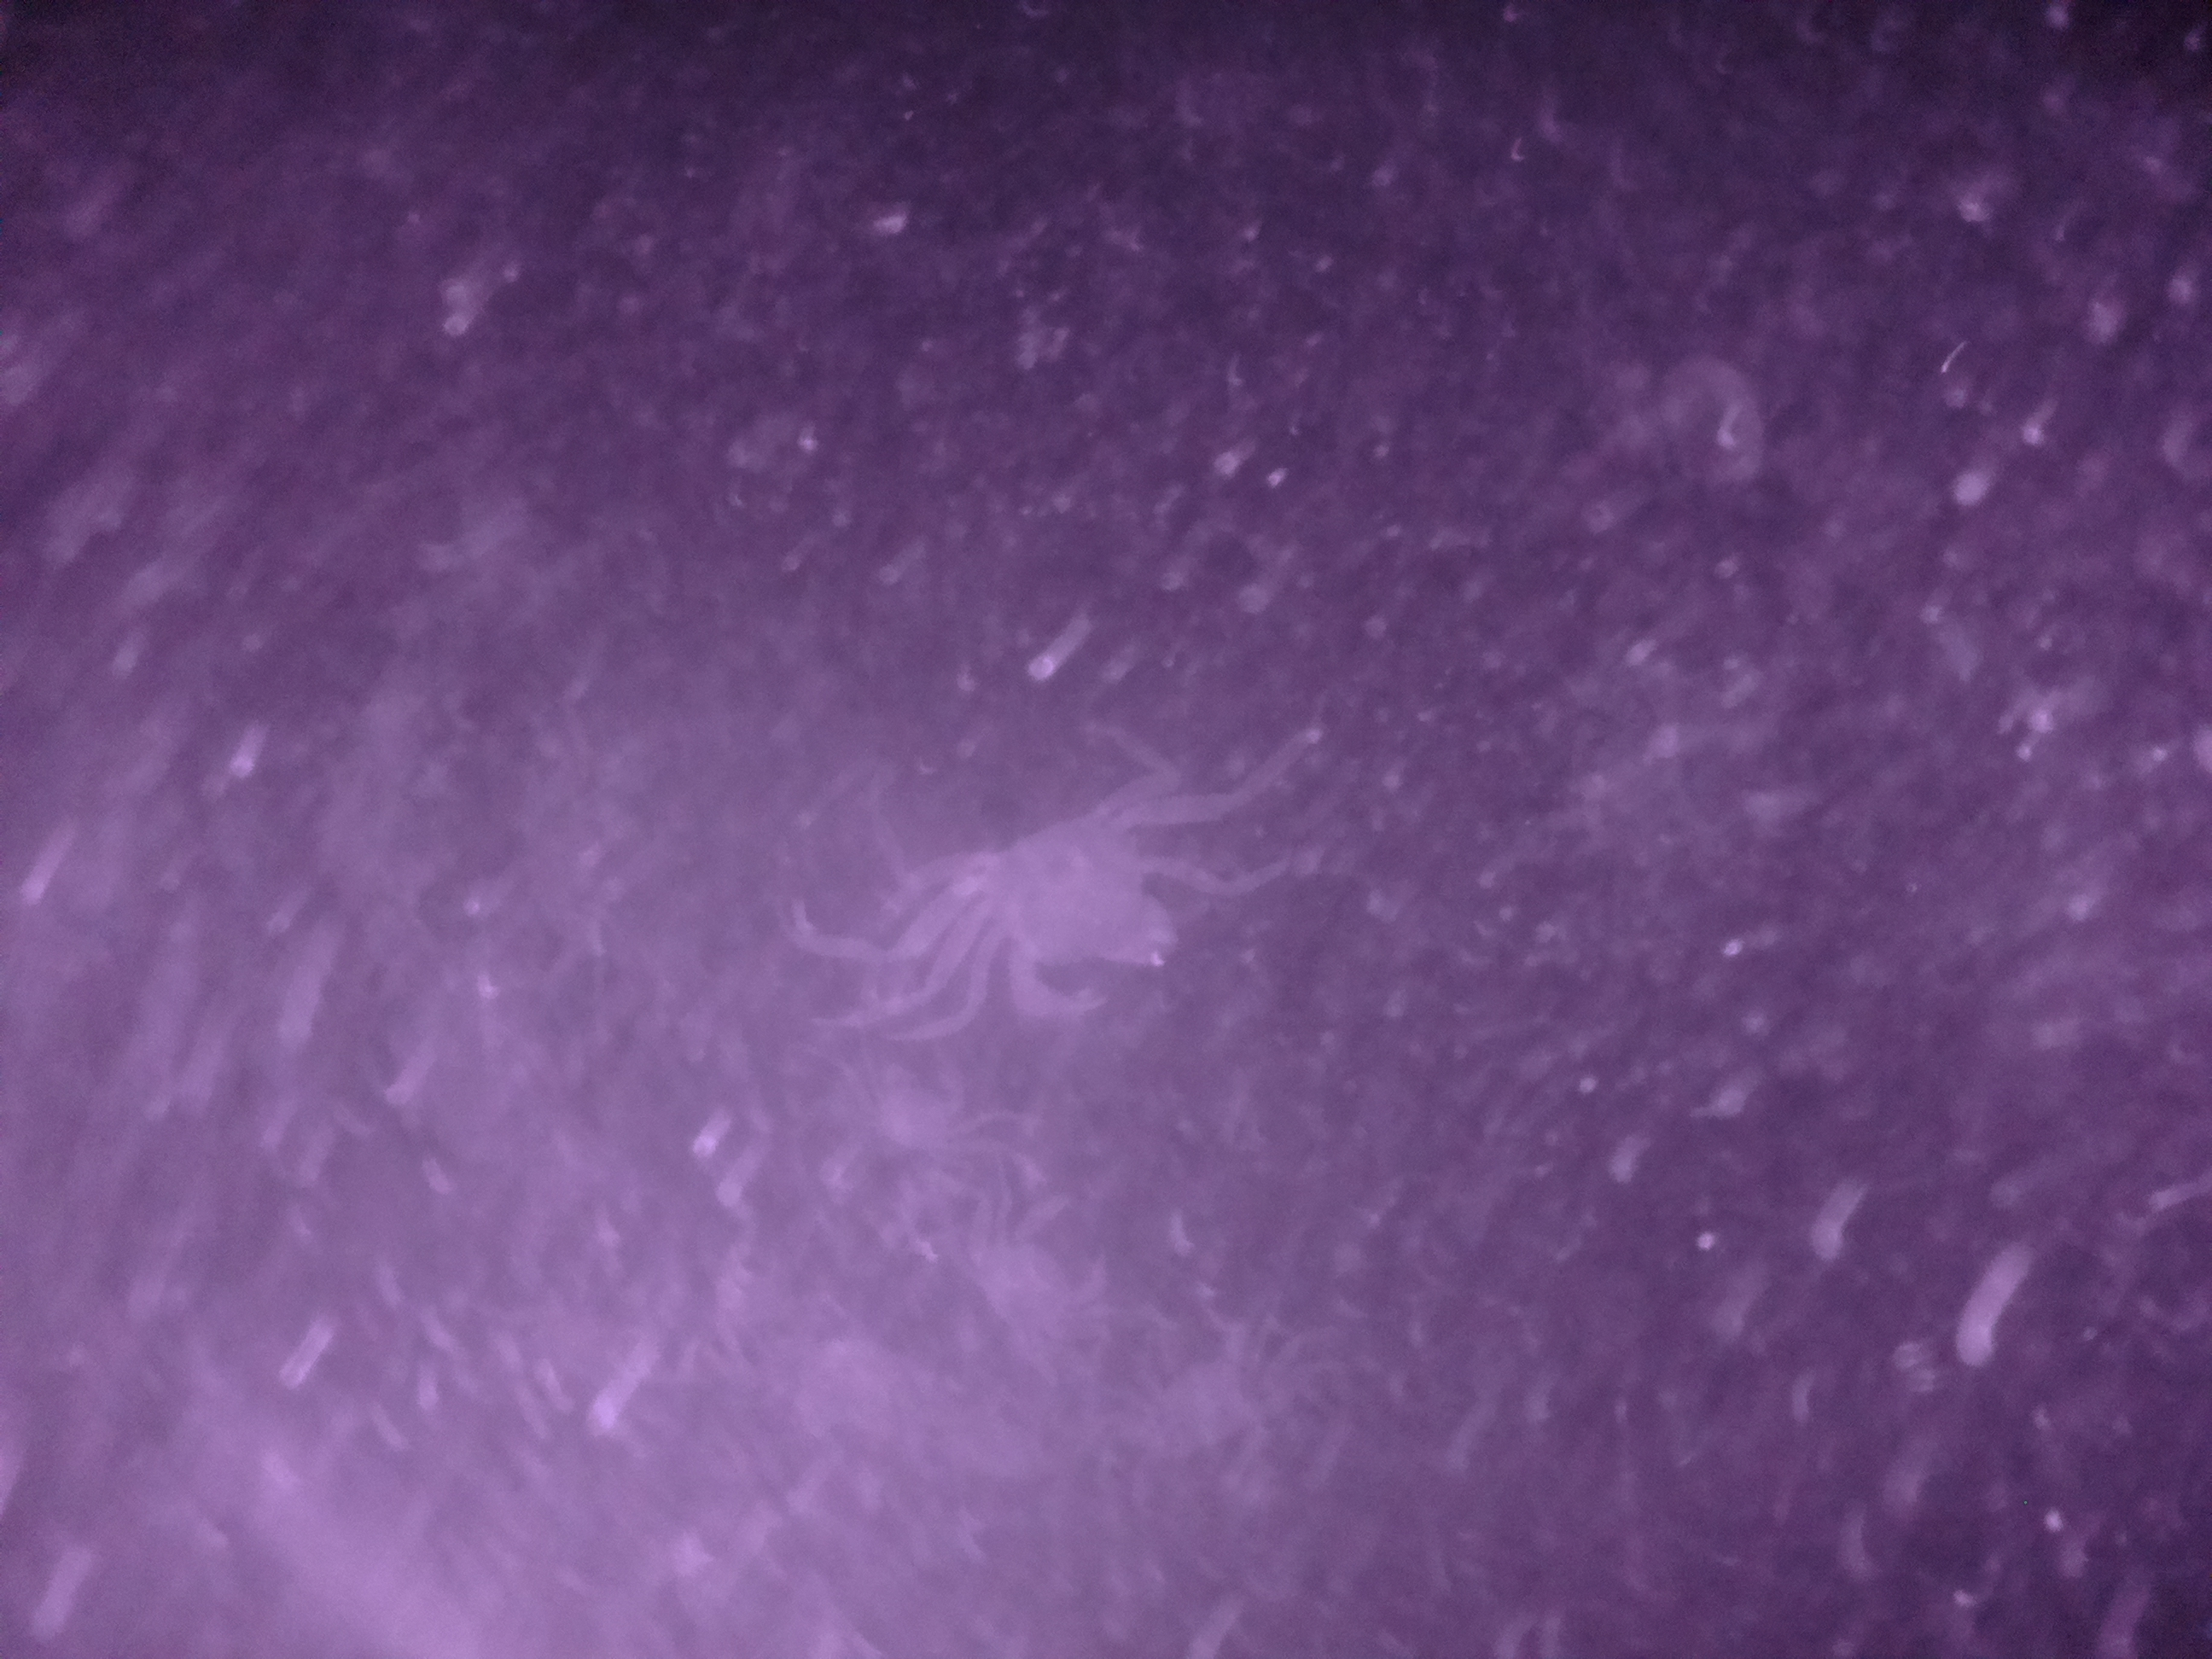Crab: (939, 782, 1212, 1047)
